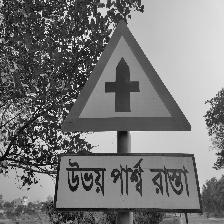Crossroad: (50, 15, 204, 216)
